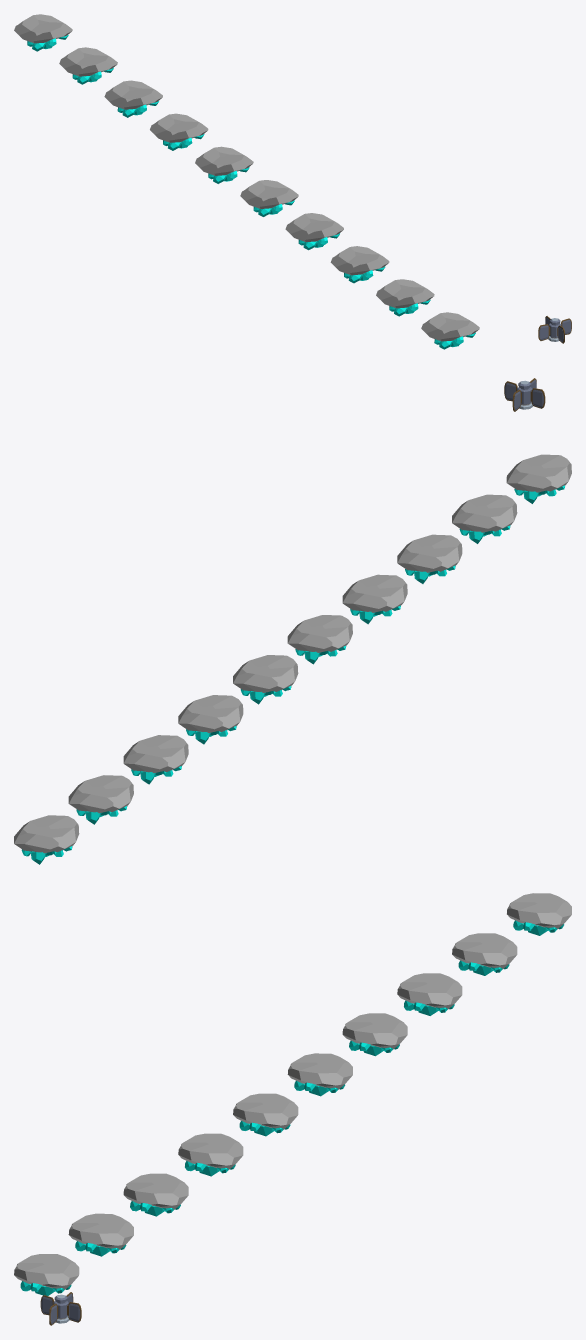
File: 8浮石区.fbx
3 views of the same model, one above another, from view 1: azimuth 30°, elevation 25°; view 2: azimuth 150°, elevation 25°; view 3: azimuth 330°, elevation 25° (orthographic). The views are drawn at different scales.
Parts seen in each view (by area): view 1: 不规则石头.077, 不规则石头.078, 不规则石头.079, 不规则石头.081, 不规则石头.075, 不规则石头.082, 不规则石头.080, 不规则石头.083, 不规则石头.076, 不规则石头.084, Cylinder.080; view 2: 不规则石头.083, 不规则石头.084, 不规则石头.075, 不规则石头.077, 不规则石头.078, 不规则石头.082, 不规则石头.081, 不规则石头.076, 不规则石头.079, 不规则石头.080, Cylinder.080; view 3: 不规则石头.079, 不规则石头.078, 不规则石头.082, 不规则石头.077, 不规则石头.083, 不规则石头.081, 不规则石头.084, 不规则石头.076, 不规则石头.080, 不规则石头.075, Cylinder.080.
Part boxes in pixels (left/top/right/bottom): 不规则石头.077: left=330, top=246, right=389, bottom=275; 不规则石头.078: left=285, top=213, right=343, bottom=242; 不规则石头.079: left=240, top=180, right=298, bottom=208; 不规则石头.081: left=150, top=113, right=208, bottom=142; 不规则石头.075: left=421, top=312, right=479, bottom=341; 不规则石头.082: left=104, top=80, right=162, bottom=109; 不规则石头.080: left=195, top=146, right=253, bottom=175; 不规则石头.083: left=59, top=47, right=117, bottom=76; 不规则石头.076: left=376, top=279, right=434, bottom=308; 不规则石头.084: left=14, top=14, right=72, bottom=43; Cylinder.080: left=538, top=316, right=571, bottom=343; 不规则石头.083: left=68, top=775, right=133, bottom=813; 不规则石头.084: left=14, top=815, right=79, bottom=853; 不规则石头.075: left=506, top=454, right=571, bottom=492; 不规则石头.077: left=397, top=534, right=462, bottom=572; 不规则石头.078: left=342, top=574, right=407, bottom=612; 不规则石头.082: left=123, top=735, right=188, bottom=772; 不规则石头.081: left=178, top=695, right=243, bottom=732; 不规则石头.076: left=452, top=494, right=517, bottom=532; 不规则石头.079: left=287, top=615, right=352, bottom=652; 不规则石头.080: left=233, top=655, right=298, bottom=692; Cylinder.080: left=504, top=378, right=545, bottom=411; 不规则石头.079: left=233, top=1093, right=298, bottom=1129; 不规则石头.078: left=178, top=1133, right=243, bottom=1169; 不规则石头.082: left=397, top=973, right=462, bottom=1009; 不规则石头.077: left=123, top=1173, right=188, bottom=1209; 不规则石头.083: left=452, top=933, right=517, bottom=968; 不规则石头.081: left=342, top=1013, right=407, bottom=1049; 不规则石头.084: left=507, top=893, right=571, bottom=929; 不规则石头.076: left=68, top=1213, right=133, bottom=1249; 不规则石头.080: left=287, top=1053, right=352, bottom=1089; 不规则石头.075: left=14, top=1254, right=79, bottom=1289; Cylinder.080: left=40, top=1292, right=81, bottom=1325.
Size of the model in its own units: 507 by 230 by 4206.
